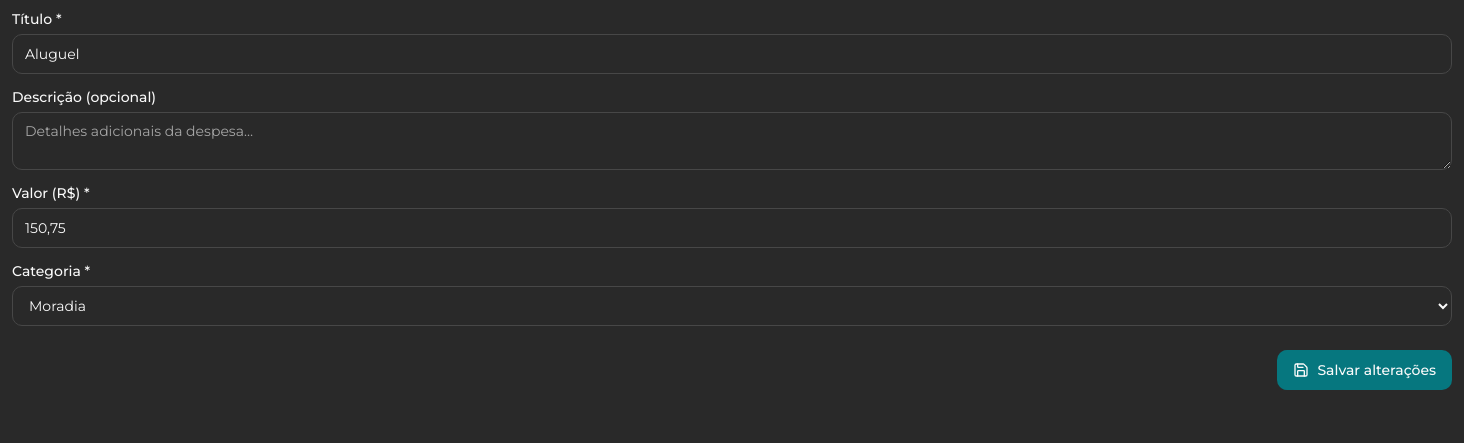
Scenario: ExpenseForm — edição de despesas (TAREFA 12) › reseta o estado de erro ao trocar de despesa em edição
Step 1. Clear the field with test id "expense-form-title" → (732, 54), box [12,34,1452,74]
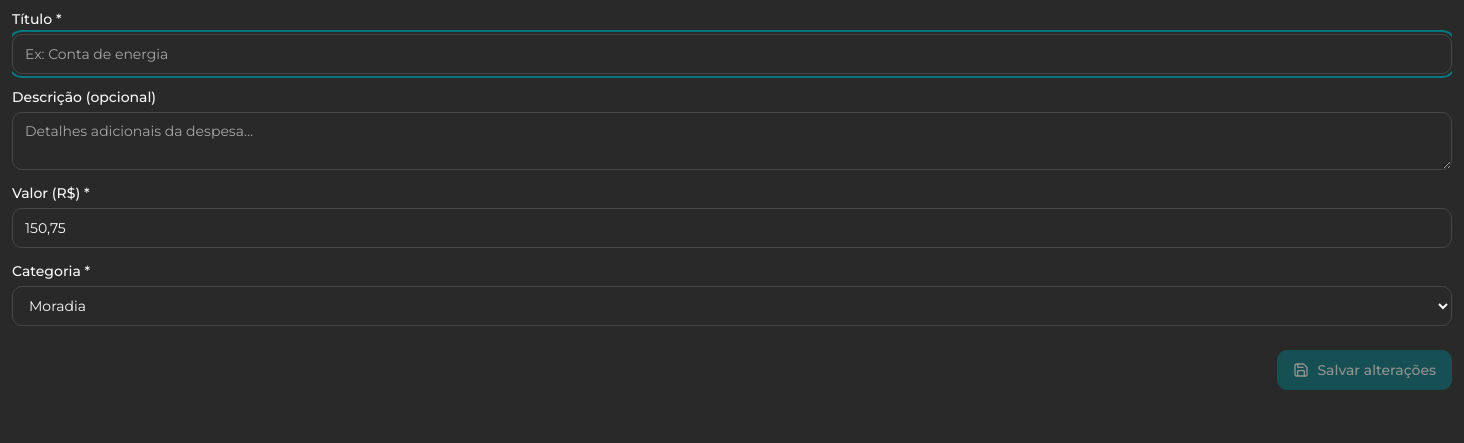
Step 2. Submit the form with test id "expense-form"
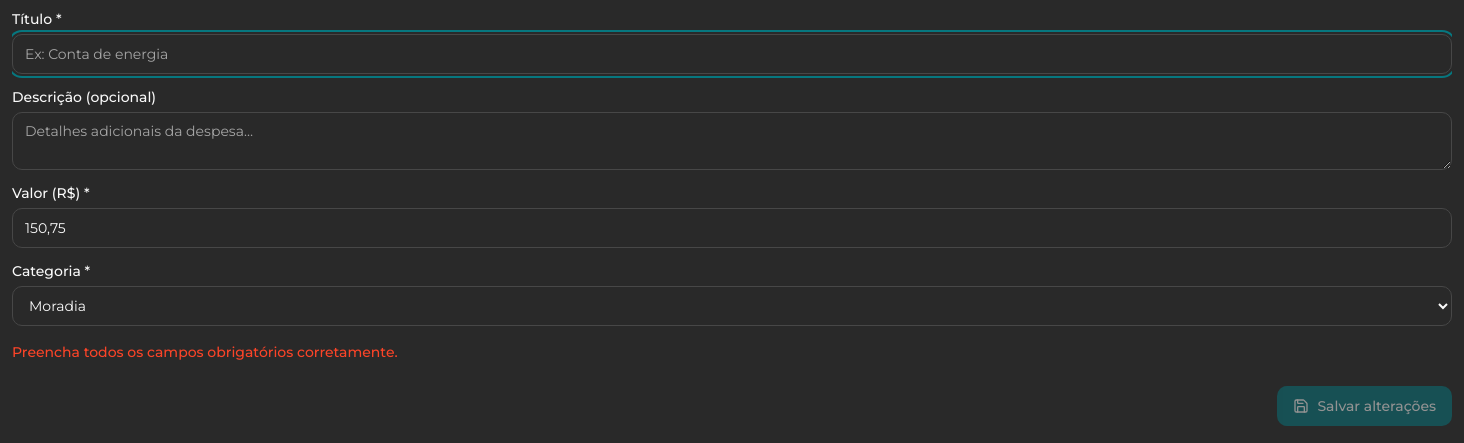
expect the message "Preencha todos os campos obrigatórios corretamente." is shown: met, box [12,343,398,361]
